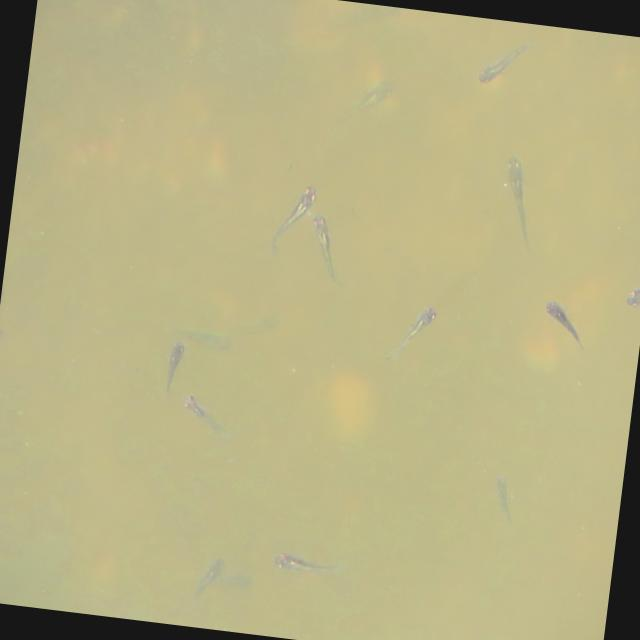Sivrisinek Baligi: (492, 152, 542, 249), (334, 68, 398, 136), (475, 31, 538, 94), (383, 301, 440, 368), (270, 182, 318, 256), (538, 297, 592, 354), (307, 214, 348, 286), (270, 544, 340, 586), (176, 393, 234, 443), (186, 553, 232, 609), (157, 336, 190, 398), (486, 472, 520, 530)
